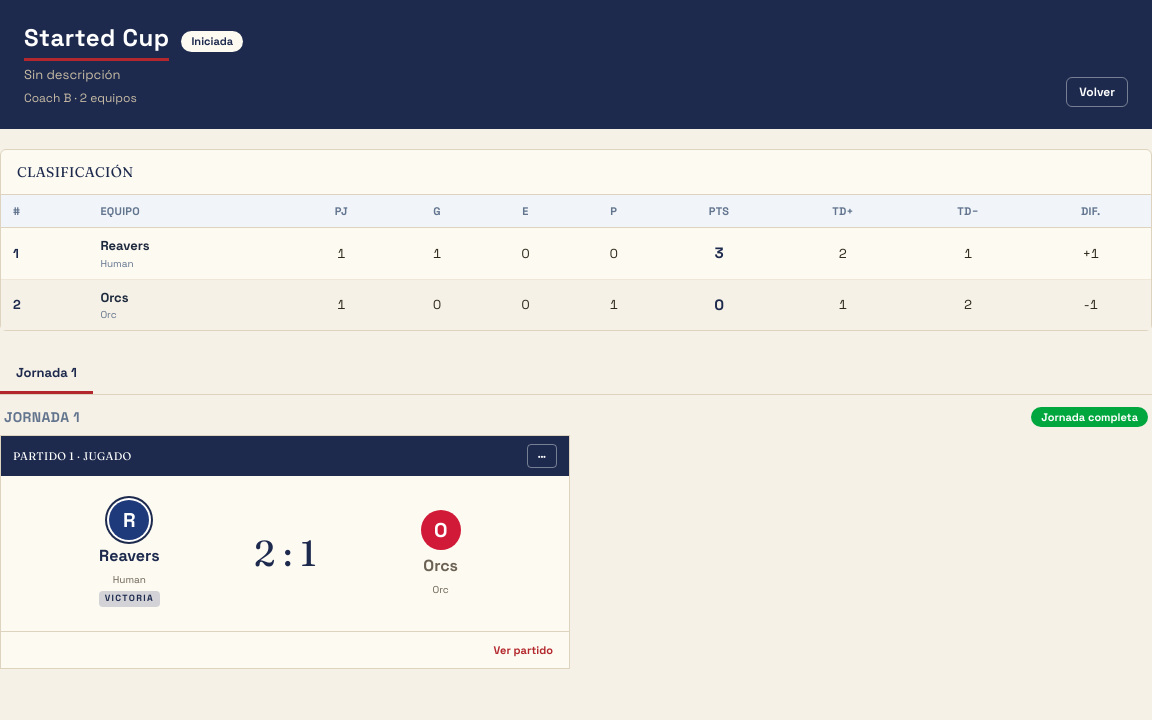
Test: LeagueDetail — STARTED league › opens the acta wizard PREFILLED from the persisted snapshot on correct (s6a)
The width and height of the screenshot is (1152, 720).
What coordinates should you click on to do the following:
click the button named "Más acciones"
I would click on:
 (542, 456)
Its box is x1=527 y1=444 x2=557 y2=468.
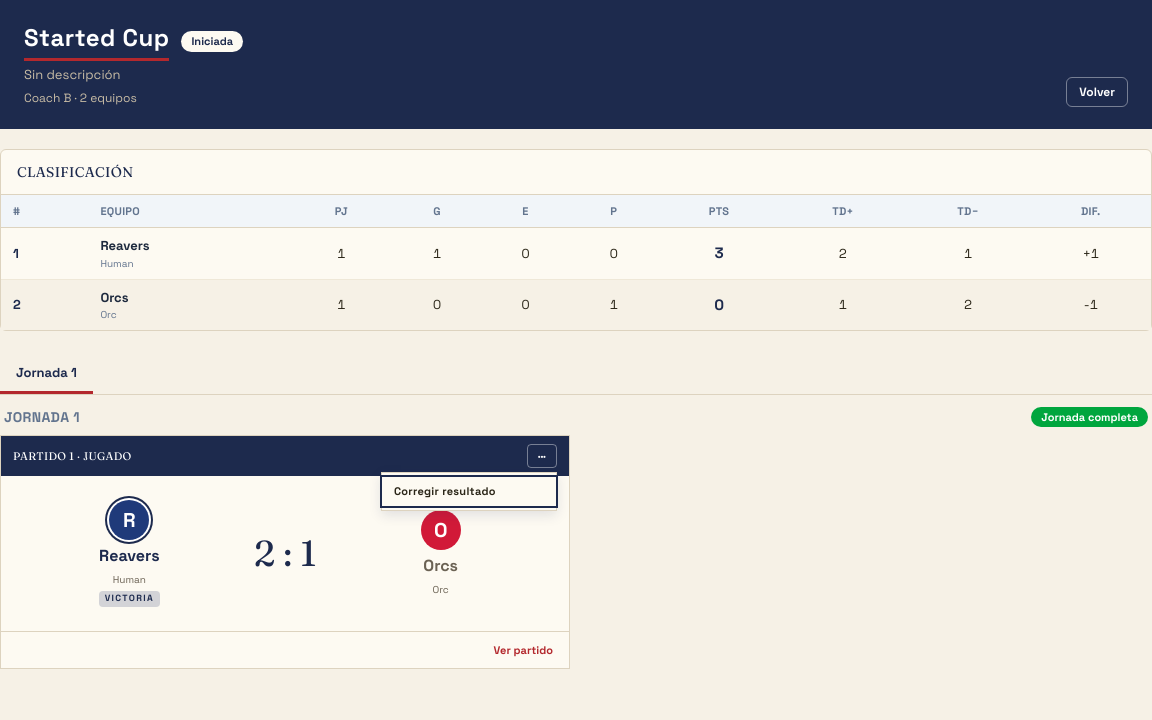
What coordinates should you click on to do the following:
click the menu item "Corregir resultado"
I would click on:
 (469, 491)
Its box is x1=382 y1=477 x2=556 y2=506.
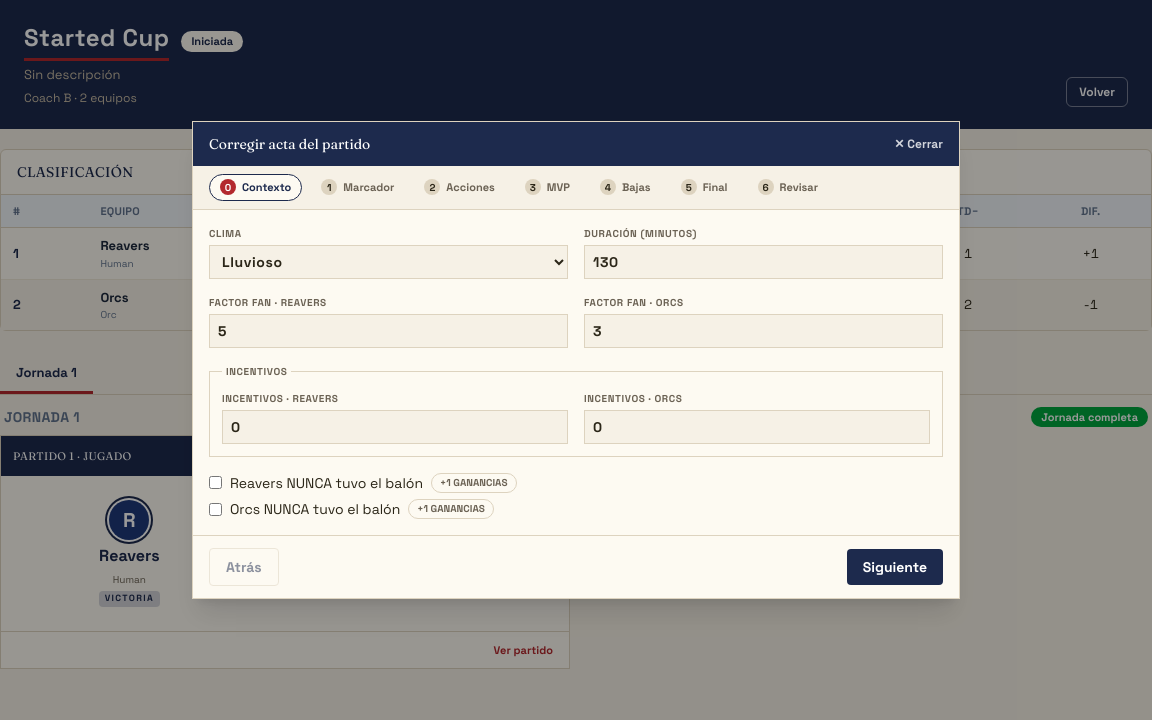
Now the dialog "Corregir acta del partido" is shown, box x1=192 y1=121 x2=960 y2=599
Now the number field labelled "Factor fan · Reavers" holds "5", box x1=209 y1=314 x2=568 y2=348
Now the number field labelled "Factor fan · Orcs" holds "3", box x1=584 y1=314 x2=943 y2=348
Step 1 Marcador: scores prefilled from the snapshot.
What coordinates should you click on to do the following:
click the button "Siguiente"
I would click on:
 (895, 567)
Its box is x1=847 y1=549 x2=943 y2=585.
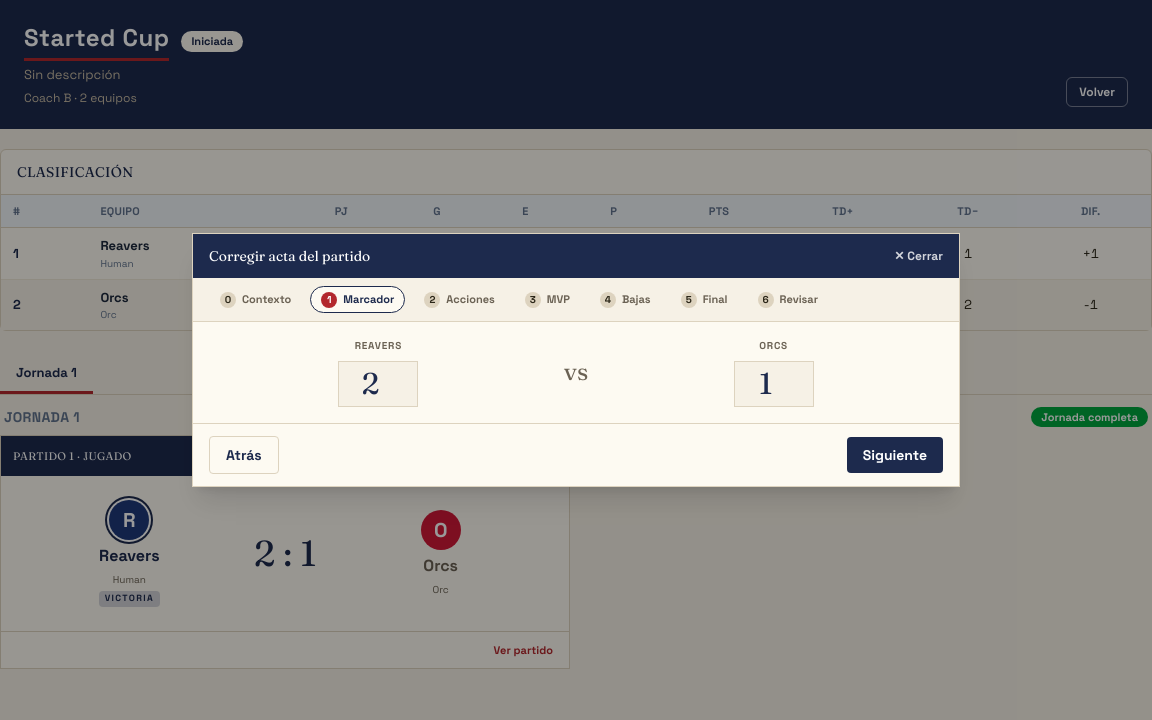
Now the number field labelled "Reavers" holds "2", box x1=338 y1=361 x2=418 y2=407
Now the number field labelled "Orcs" holds "1", box x1=734 y1=361 x2=814 y2=407
